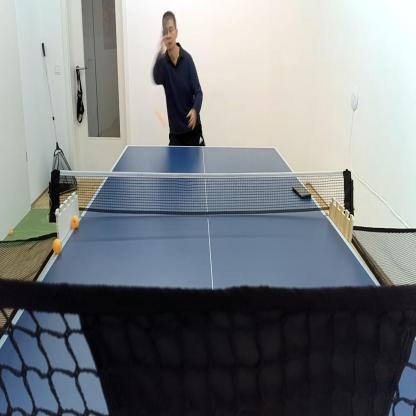Ball: (155, 106, 168, 131), (52, 236, 62, 255), (70, 213, 80, 230), (9, 227, 13, 236)
